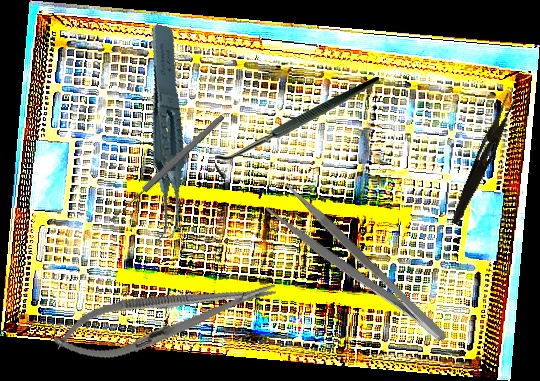Dressing Forceps: (262, 180, 452, 360), (449, 89, 518, 229)
Hook Surgical: (215, 77, 379, 179)
Needle Holder: (47, 263, 283, 372)
Surgical Spoon: (107, 113, 226, 224)
Tissue Forceps: (108, 23, 218, 247)
